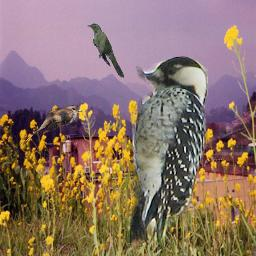Cuckoo: (19, 105, 83, 146), (87, 23, 126, 78)
Woodpecker: (130, 55, 208, 247)
